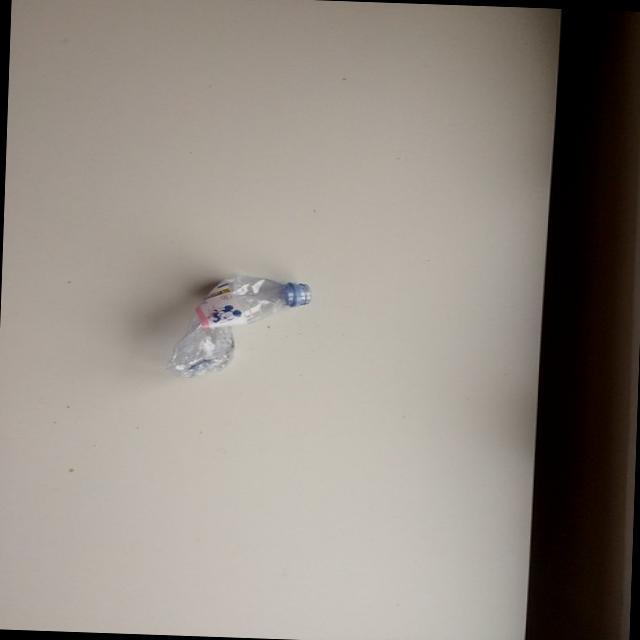Recycle: (171, 271, 319, 386)
